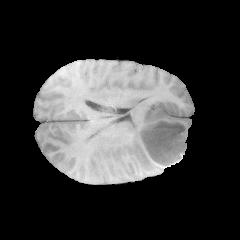glioma: (130, 100, 191, 171)
